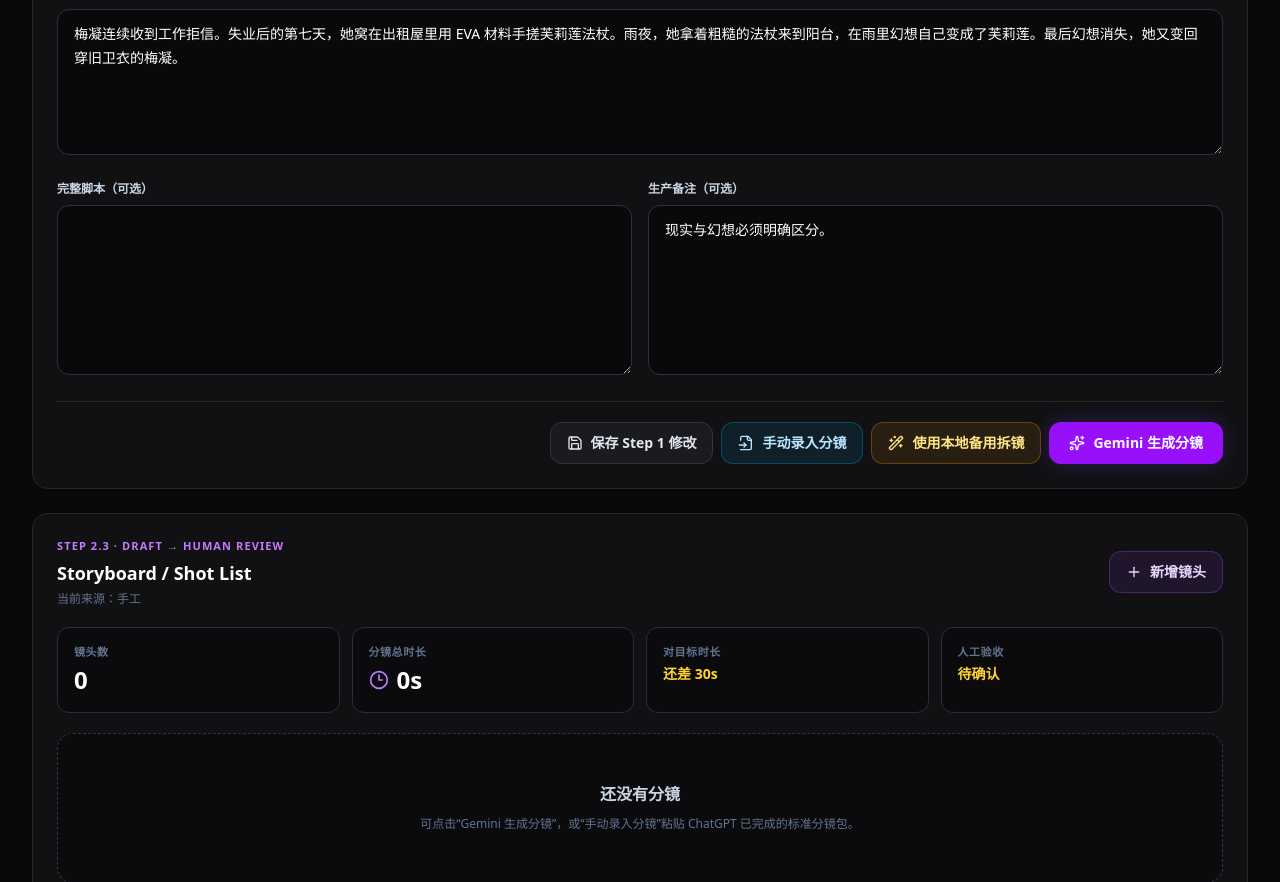
GeminiStoryboardDirectorPage › uses the server Gemini endpoint as the normal Storyboard generation path
The image size is (1280, 882).
(page scrolled)
Click the button "Gemini 生成分镜": (1136, 443) [1050,422,1223,464]
(page scrolled)
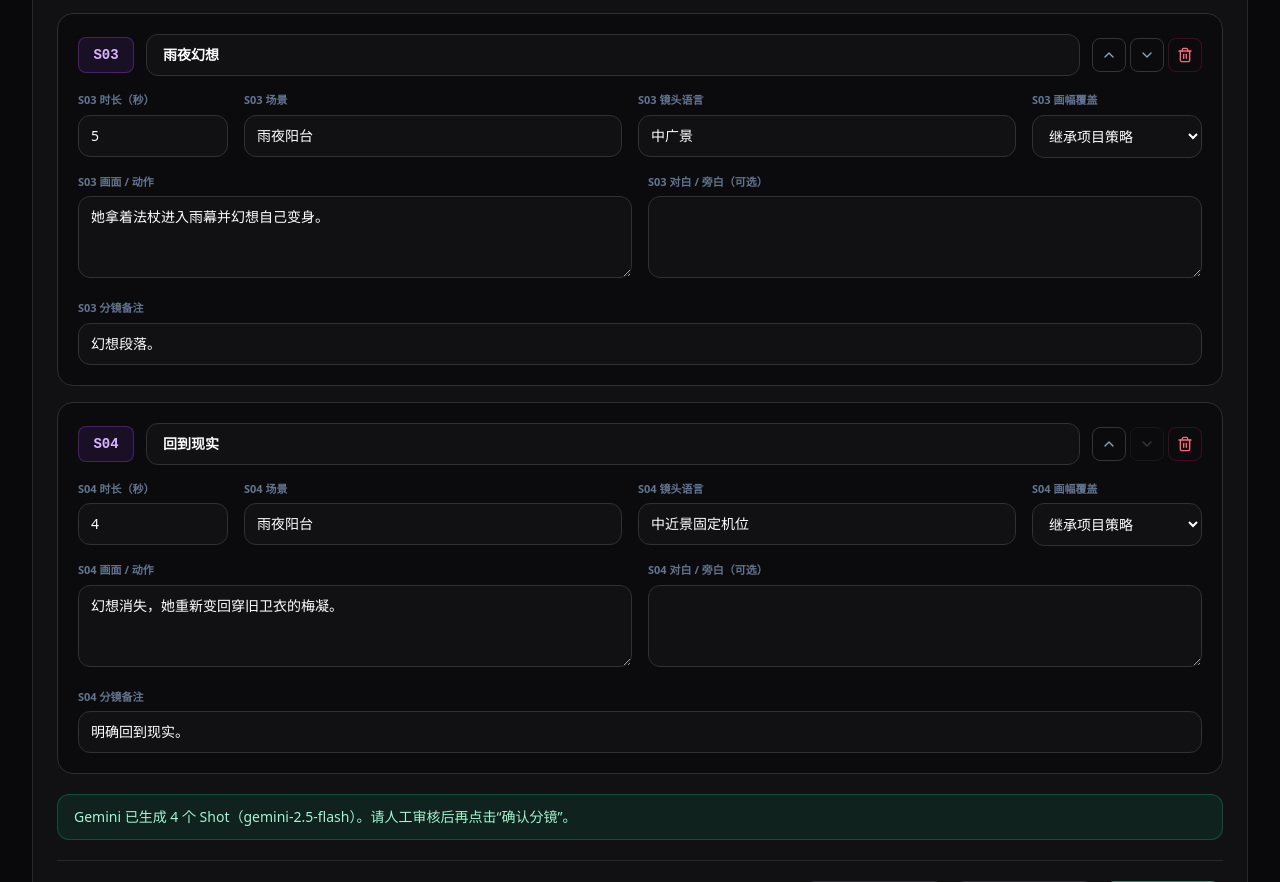
Check: the text "Gemini 已生成 4 个 Shot（gemini-2.5-flash）。请人工审核后再点击“确认分镜”。" is shown, box [57,794,1223,840]
Check: the 2nd field named "S04 标题" holds "回到现实", box [146,422,1080,464]
